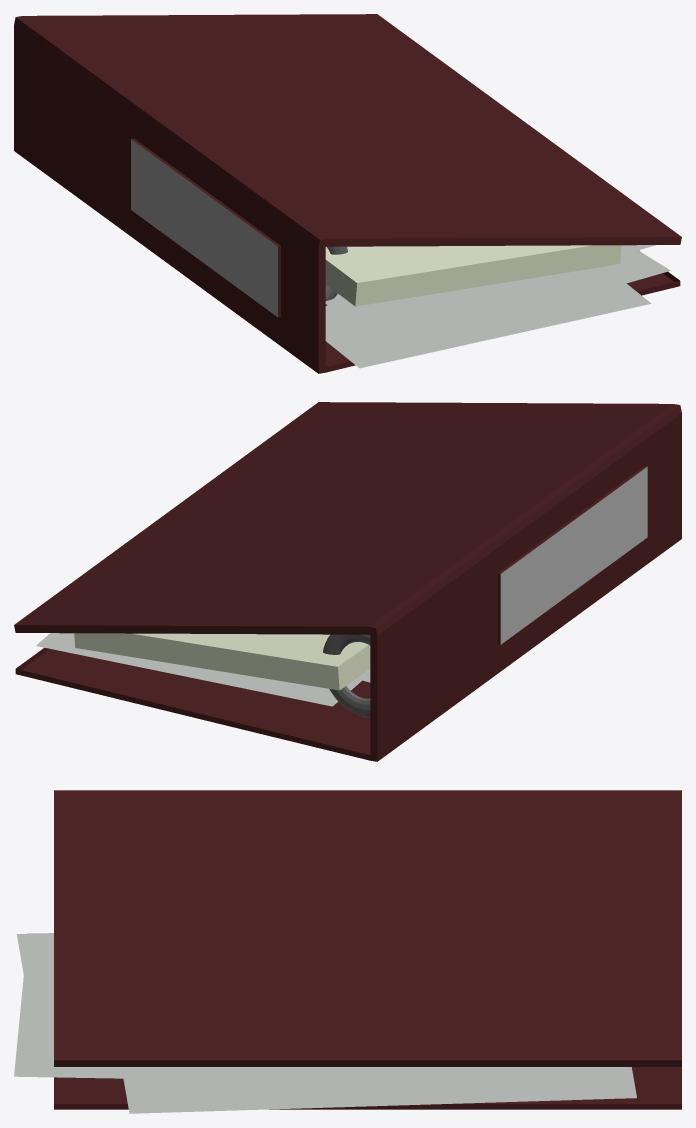
Rendered from red file 1 paper.fbx.
3 renders of one model, top to bottom at view 1: azimuth 30°, elevation 25°; view 2: azimuth 150°, elevation 25°; view 3: azimuth 270°, elevation 25°, orthographic. The views are drawn at different scales.
Parts seen in each view (by area): view 1: Cube, Plane, Plane.003, Plane.002; view 2: Cube, Plane, Plane.001; view 3: Cube, Plane.001, Plane.003, Plane.002.
Boxes of the visible parts, <box> form: Cube: <box>14,14,681,373</box>; Plane: <box>325,245,621,306</box>; Plane.003: <box>325,245,670,348</box>; Plane.002: <box>325,283,651,368</box>; Cube: <box>14,402,681,761</box>; Plane: <box>74,633,370,690</box>; Plane.001: <box>36,633,370,706</box>; Cube: <box>54,790,681,1109</box>; Plane.001: <box>123,1067,636,1113</box>; Plane.003: <box>16,933,373,1077</box>; Plane.002: <box>14,933,123,1078</box>.
Size of the model in its own units: 278 by 89.7 by 393.
